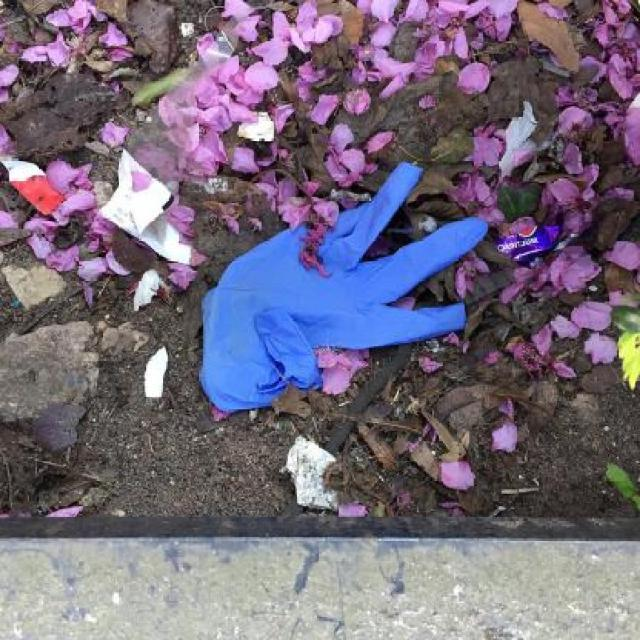gloved_hand: (190, 160, 496, 428)
